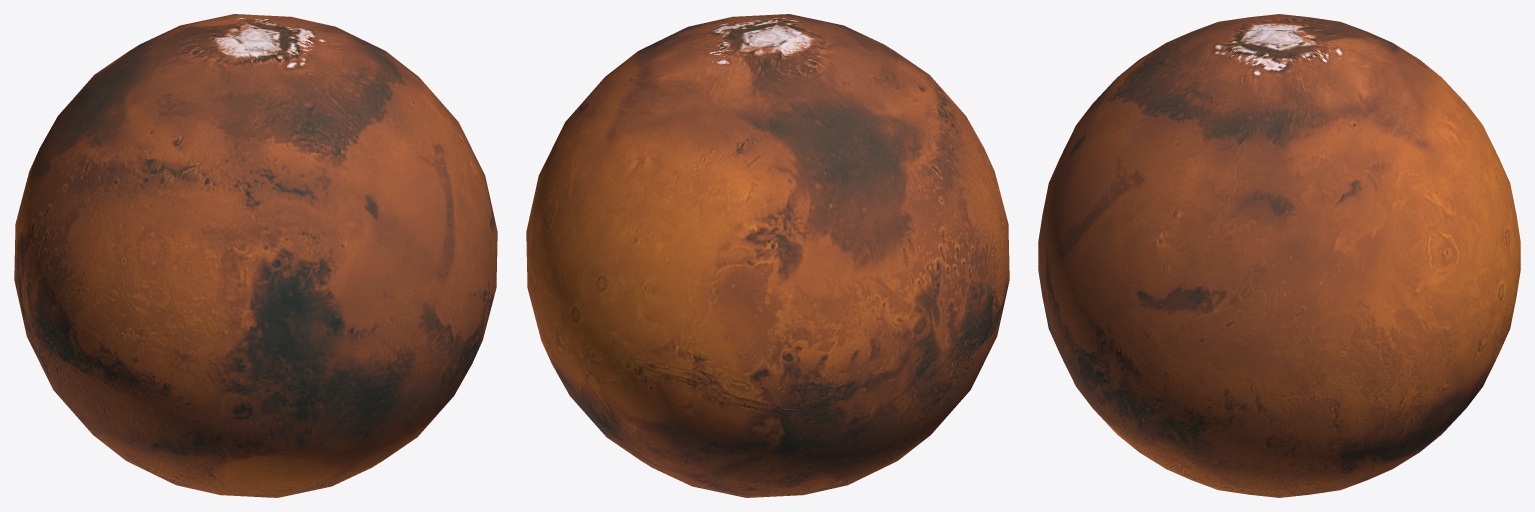
Rendered from Mars.fbx.
The picture shows the model from 3 angles, left to right: view 1: azimuth 30°, elevation 25°; view 2: azimuth 150°, elevation 25°; view 3: azimuth 270°, elevation 25°; orthographic projection.
Visible parts, largest first — view 1: LowPoly_Mars; view 2: LowPoly_Mars; view 3: LowPoly_Mars.
Boxes of the visible parts, box(x1,y1,x2,y2) form: LowPoly_Mars: box(14, 14, 497, 497); LowPoly_Mars: box(526, 14, 1009, 497); LowPoly_Mars: box(1038, 14, 1520, 497).
Size of the model in its own units: 78.72 by 79.1 by 78.61.
